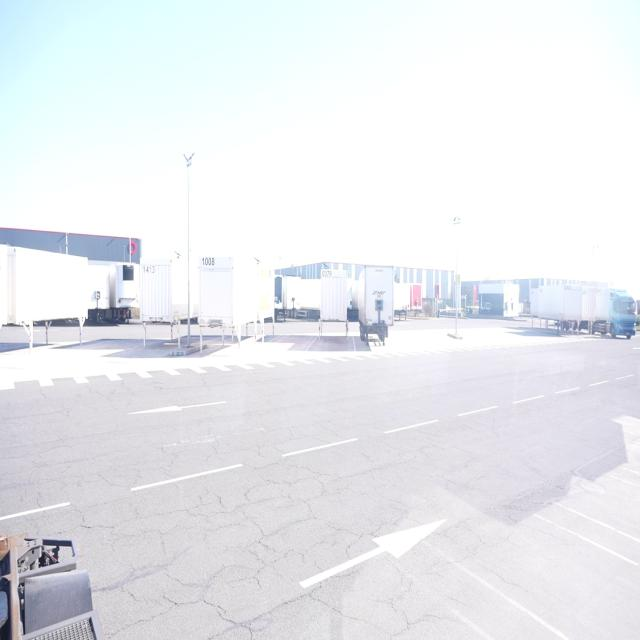Code: (318, 268, 335, 283), (138, 264, 158, 276), (201, 259, 216, 270)
